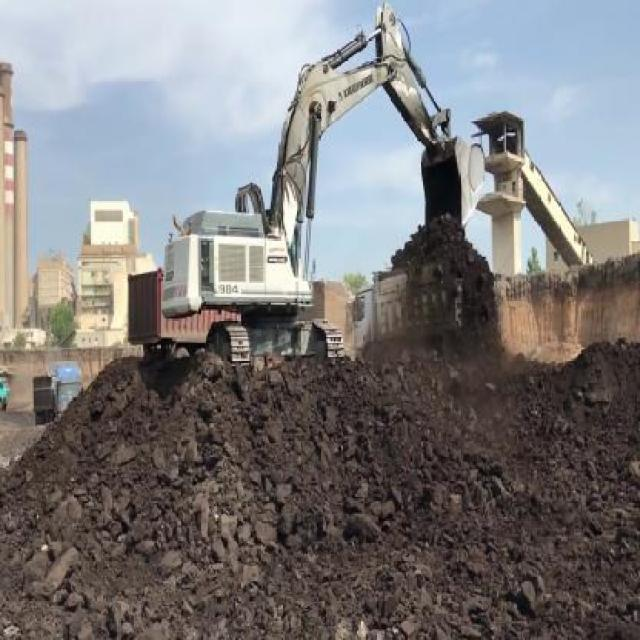dump_truck: (350, 264, 468, 354), (28, 360, 82, 426)
excavator: (160, 0, 488, 389)
